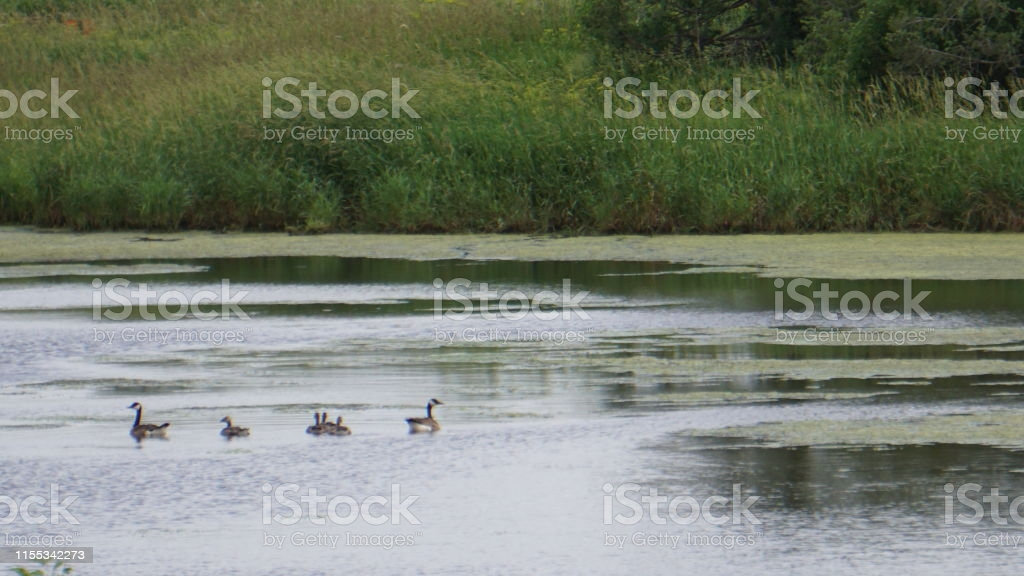goose: (124, 400, 173, 438), (402, 395, 445, 435)
